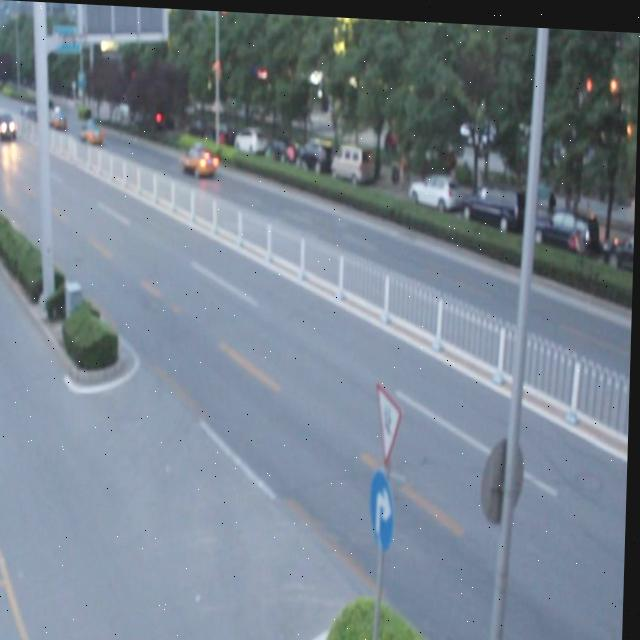car: (182, 146, 218, 173), (78, 124, 105, 144)
